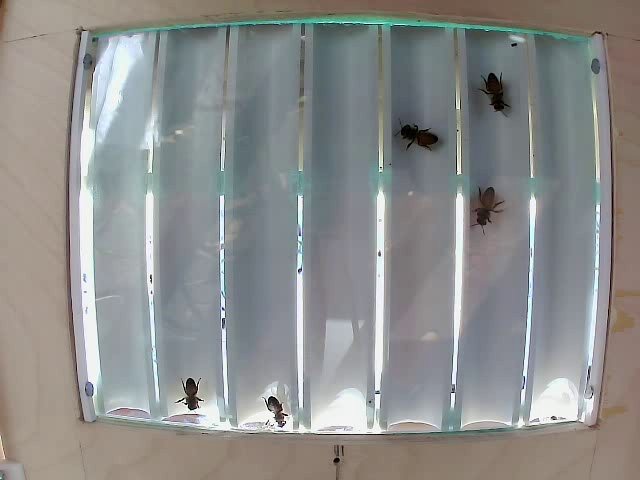bee: (259, 388, 294, 432), (470, 181, 500, 232), (394, 114, 429, 153), (473, 70, 503, 112), (178, 373, 206, 401)
